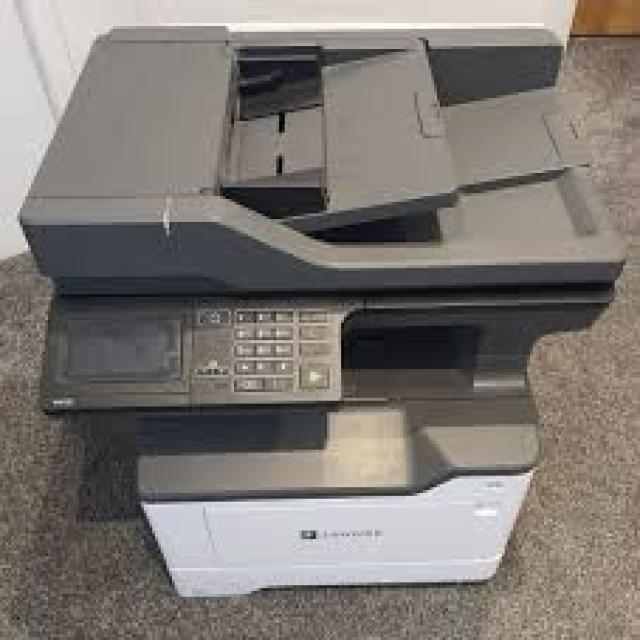printer: (14, 0, 626, 597)
